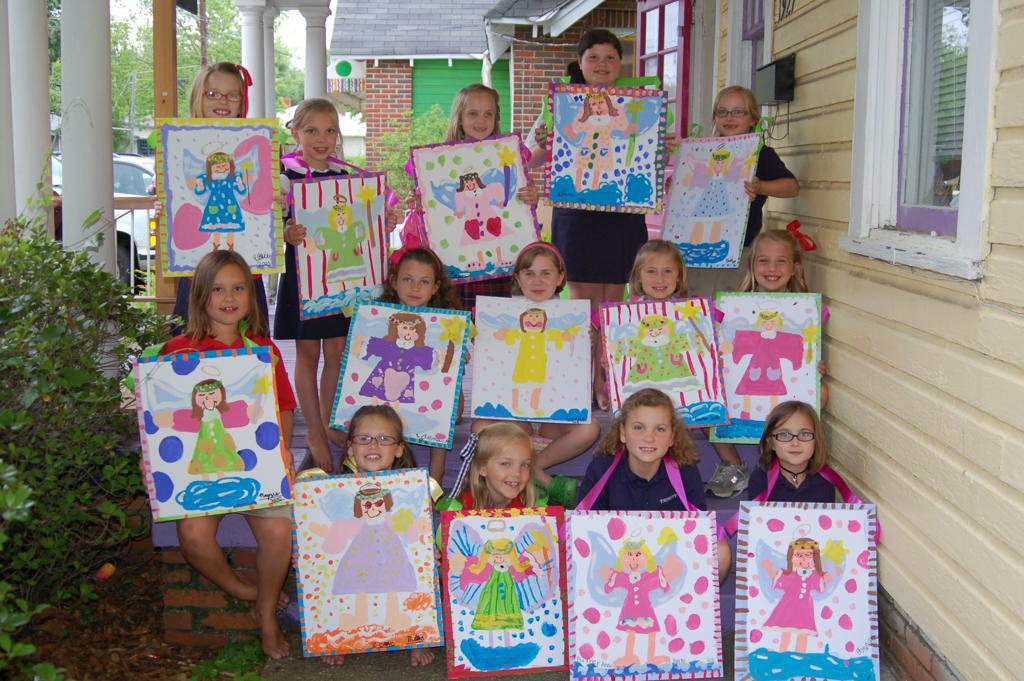face: (490, 428, 533, 500), (204, 263, 252, 326), (354, 411, 398, 471), (773, 410, 817, 467), (628, 406, 672, 462), (201, 69, 243, 127), (755, 234, 793, 292), (299, 106, 339, 161), (519, 250, 559, 302), (641, 248, 679, 299), (397, 258, 435, 308), (581, 41, 619, 87), (463, 91, 497, 141), (716, 89, 750, 138)
